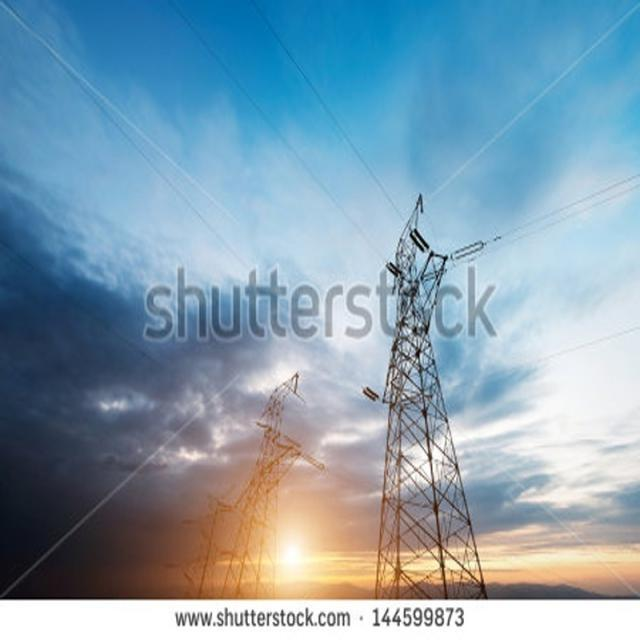non-critical vegetation: (359, 207, 496, 588), (230, 366, 314, 588)
